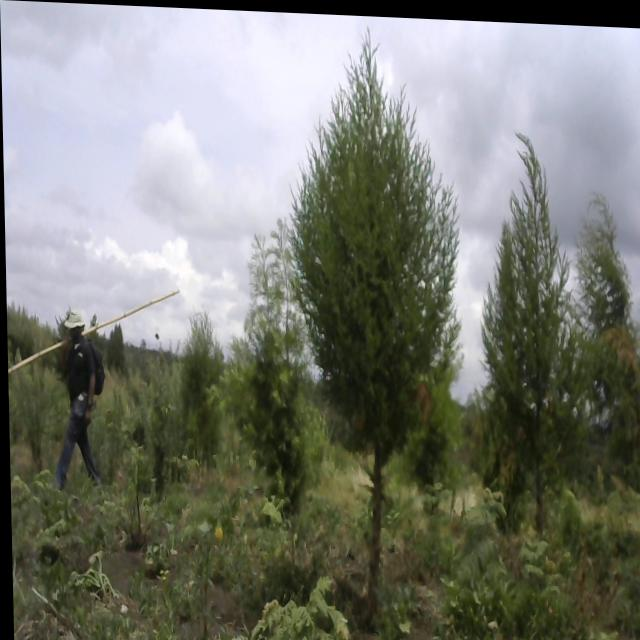Podocarpus falcatus: (216, 203, 313, 515)
cedrus: (290, 20, 466, 508), (481, 116, 567, 546), (569, 183, 640, 432), (175, 297, 221, 445)
